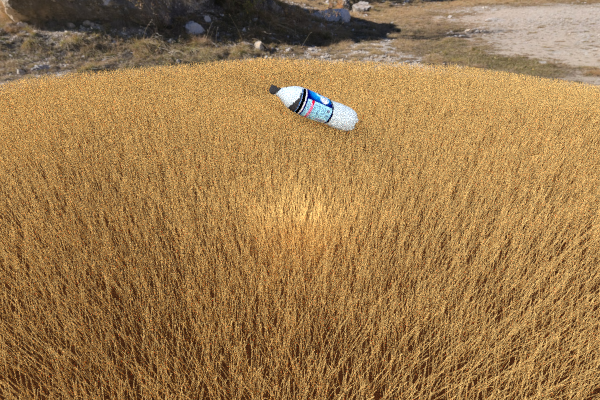bottle: (269, 84, 358, 131)
